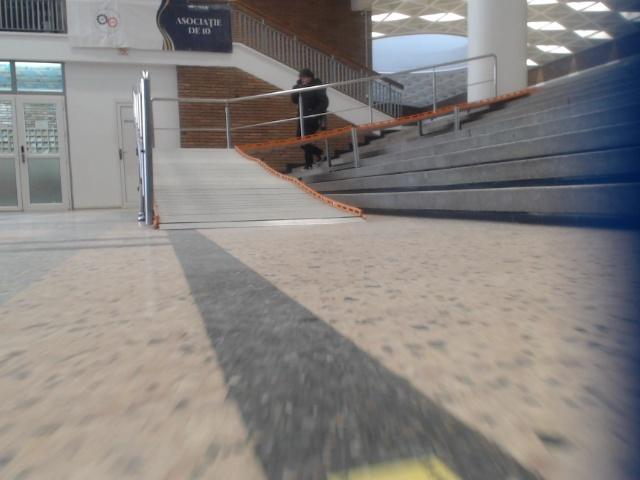rampUp: (154, 149, 359, 227)
ramps-railing: (151, 54, 497, 147), (134, 72, 155, 225)
